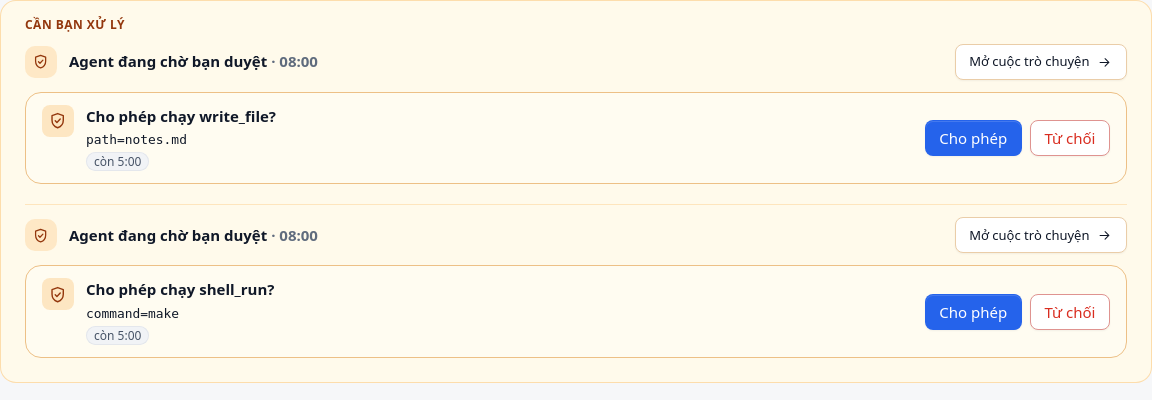
Test case: AttentionCenter with requests settled in place › keeps the first of two requests of one second where it was listed while its turn resumes
The image size is (1152, 400).
Click the button "Cho phép" in the row of "Cho phép chạy write_file?".
click(973, 138)  # box x1=925 y1=120 x2=1022 y2=156
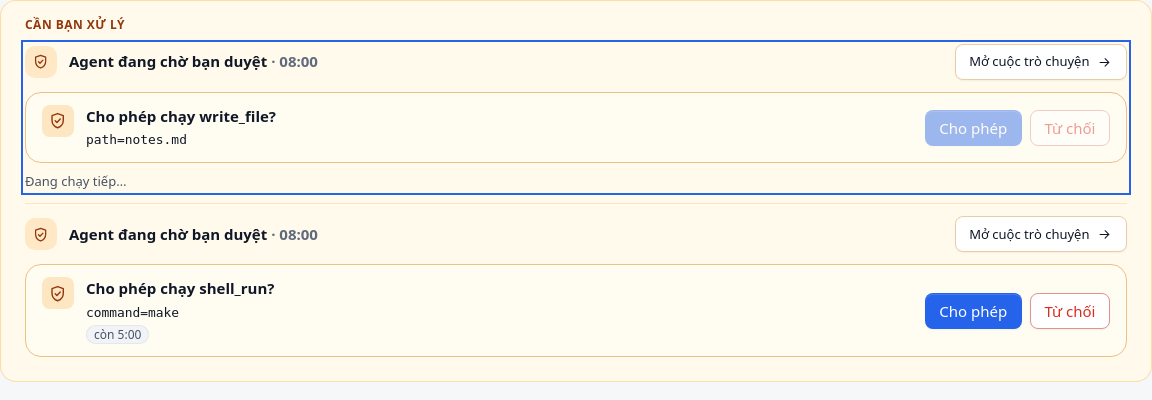
Check: the text "Đang chạy tiếp…" is shown, box x1=25 y1=172 x2=126 y2=190
